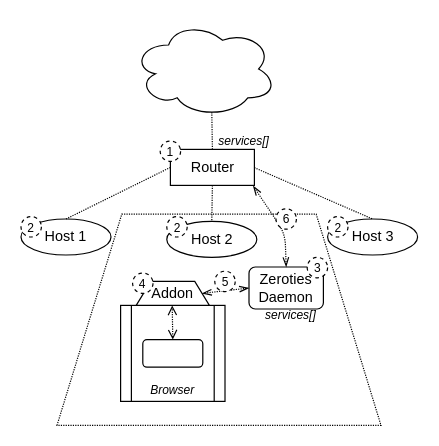
The diagram is 439 pixels wide and 446 high, and some of its shapes have lost their labels. The centre of each missing label's shape, as x and y in pixels:
"Internet" goes at pixel 204 68.
"Webapp" goes at pixel 172 352.
